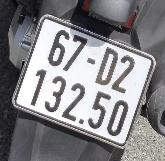0: (104, 95, 136, 140)
1: (26, 66, 52, 109)
2: (108, 51, 143, 98), (58, 80, 91, 124)
3: (41, 73, 74, 116)
5: (83, 88, 116, 133)
6: (44, 25, 75, 70)
7: (58, 31, 91, 75)
D: (91, 44, 123, 88)
